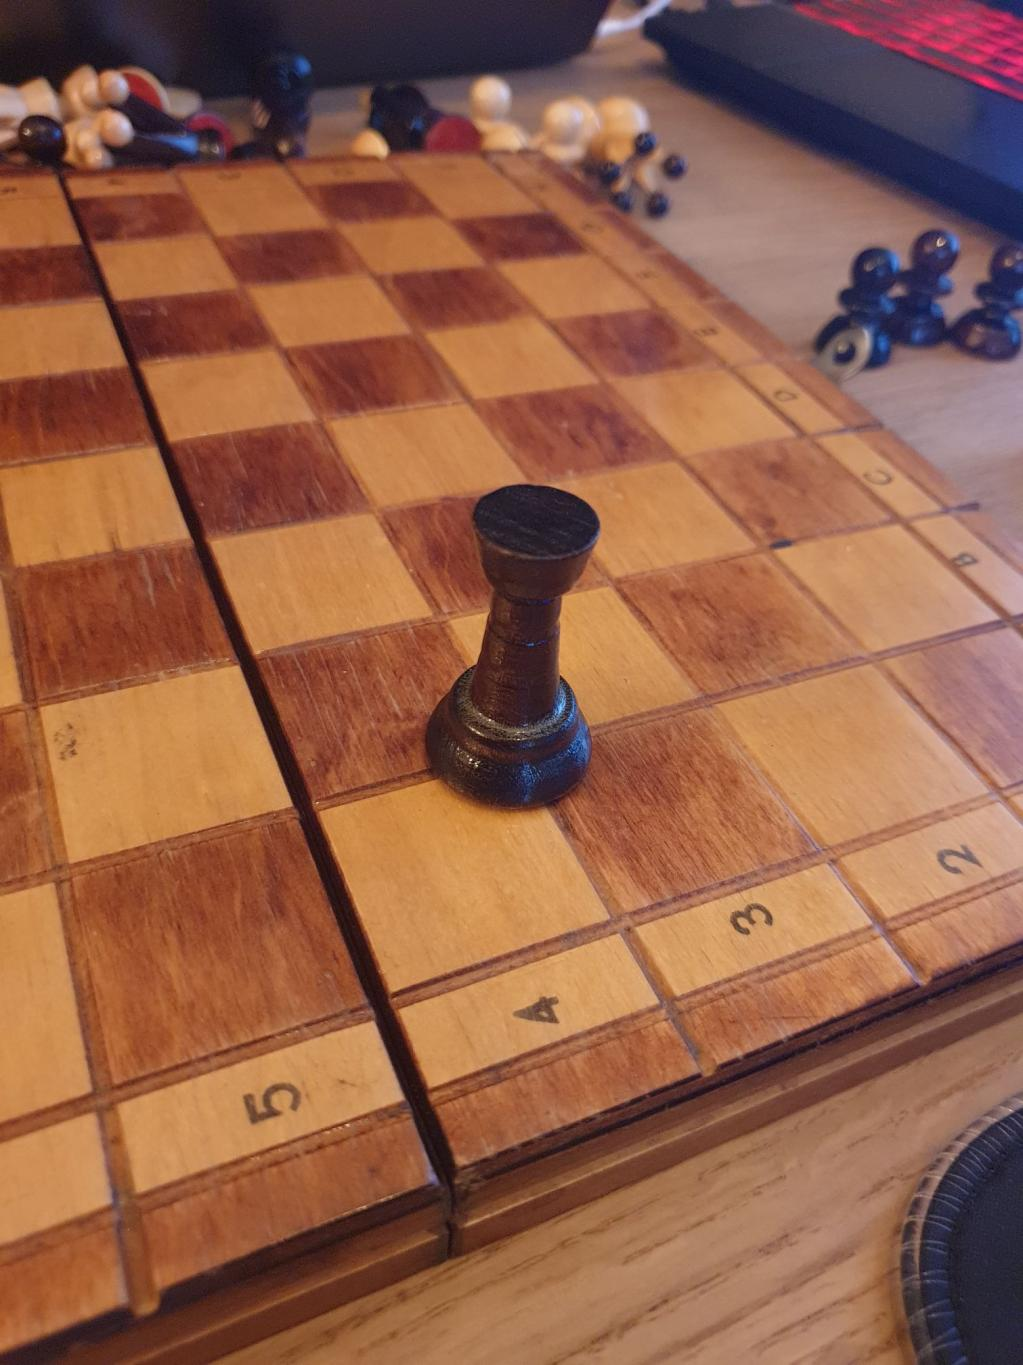brook: (423, 484, 604, 809)
